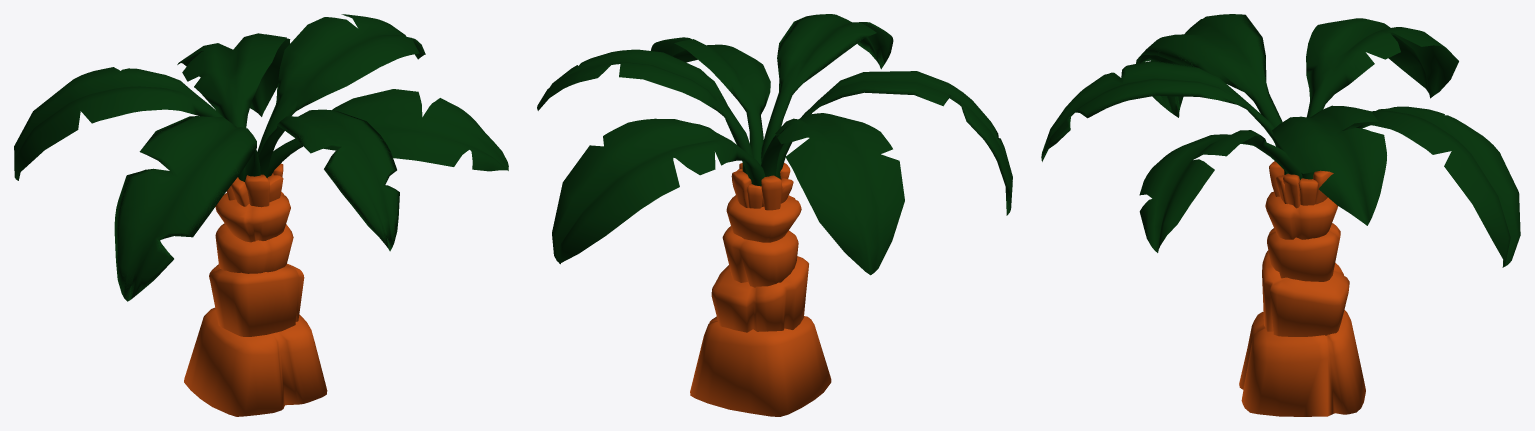
File: BananaTree_basics.fbx
The picture shows the model from 3 angles, left to right: view 1: azimuth 30°, elevation 25°; view 2: azimuth 150°, elevation 25°; view 3: azimuth 270°, elevation 25°; orthographic projection. The views are drawn at different scales.
Parts seen in each view (by area): view 1: leaf_6, Wood1, leaf_3, leaf_5, leaf_2, leaf_1, leaf_4, Wood2, Wood3, Wood4, Wood6; view 2: leaf_4, leaf_5, Wood1, leaf_1, leaf_3, leaf_6, Wood2, leaf_2, Wood3, Wood4, Wood12, Wood010; view 3: Wood1, leaf_4, leaf_5, leaf_3, leaf_6, leaf_2, leaf_1, Wood2, Wood3, Wood4, Wood8, Wood9.
Part boxes in pixels (x1=…): leaf_6: x1=114, y1=116, x2=260, y2=301; Wood1: x1=184, y1=307, x2=327, y2=416; leaf_3: x1=257, y1=14, x2=425, y2=155; leaf_5: x1=14, y1=67, x2=244, y2=180; leaf_2: x1=266, y1=89, x2=508, y2=176; leaf_1: x1=258, y1=109, x2=399, y2=251; leaf_4: x1=177, y1=33, x2=290, y2=127; Wood2: x1=209, y1=263, x2=304, y2=336; Wood3: x1=215, y1=223, x2=293, y2=273; Wood4: x1=215, y1=192, x2=290, y2=242; Wood6: x1=245, y1=174, x2=269, y2=207; leaf_4: x1=552, y1=118, x2=765, y2=264; leaf_5: x1=761, y1=113, x2=904, y2=275; Wood1: x1=690, y1=316, x2=831, y2=416; leaf_1: x1=761, y1=14, x2=893, y2=162; leaf_3: x1=537, y1=49, x2=753, y2=174; leaf_6: x1=776, y1=71, x2=1012, y2=215; Wood2: x1=711, y1=256, x2=808, y2=332; leaf_2: x1=651, y1=37, x2=770, y2=165; Wood3: x1=722, y1=226, x2=798, y2=287; Wood4: x1=726, y1=195, x2=801, y2=242; Wood12: x1=761, y1=175, x2=782, y2=210; Wood010: x1=732, y1=171, x2=751, y2=207; Wood1: x1=1239, y1=310, x2=1365, y2=416; leaf_4: x1=1342, y1=106, x2=1520, y2=267; leaf_5: x1=1306, y1=18, x2=1458, y2=117; leaf_3: x1=1272, y1=105, x2=1386, y2=225; leaf_6: x1=1136, y1=14, x2=1286, y2=174; leaf_2: x1=1139, y1=130, x2=1302, y2=252; leaf_1: x1=1041, y1=60, x2=1286, y2=173; Wood2: x1=1262, y1=250, x2=1349, y2=336; Wood3: x1=1267, y1=223, x2=1340, y2=281; Wood4: x1=1265, y1=191, x2=1337, y2=239; Wood8: x1=1283, y1=173, x2=1300, y2=208; Wood9: x1=1298, y1=178, x2=1318, y2=205.
Bounding box in the file's own units: 8642 × 6773 × 9012.
